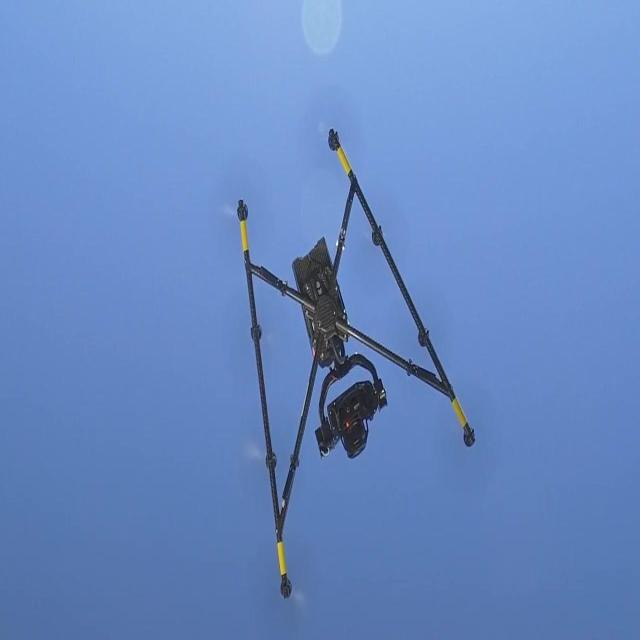drone: (226, 123, 476, 600)
